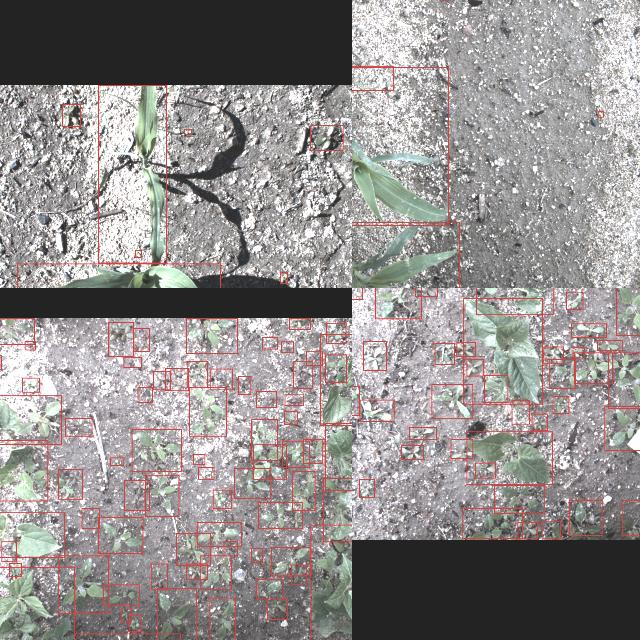crop: (352, 67, 448, 225), (99, 84, 167, 262), (463, 298, 542, 404), (352, 221, 460, 288), (0, 566, 74, 640), (17, 263, 220, 288), (311, 524, 352, 640), (467, 432, 553, 484), (0, 394, 61, 443), (0, 439, 48, 500), (320, 333, 352, 424), (0, 512, 64, 557), (476, 288, 554, 314), (323, 477, 352, 541), (325, 422, 352, 490)
weed: (58, 555, 108, 613), (132, 428, 182, 470), (157, 588, 196, 640), (190, 386, 227, 436), (463, 508, 523, 538), (186, 318, 238, 352), (609, 352, 640, 408), (98, 517, 144, 553), (605, 405, 640, 450), (495, 484, 545, 514), (145, 474, 179, 516), (375, 288, 421, 318), (432, 384, 472, 418), (574, 352, 612, 383), (570, 500, 602, 536), (258, 502, 302, 528), (176, 533, 210, 565), (200, 555, 232, 589), (254, 444, 286, 478), (235, 468, 271, 498), (209, 597, 234, 640), (251, 418, 277, 459), (272, 547, 310, 575), (617, 288, 640, 334), (197, 522, 241, 546), (352, 66, 393, 90), (292, 470, 316, 510), (0, 317, 34, 343), (108, 321, 134, 355), (311, 124, 343, 150), (124, 480, 150, 510), (550, 358, 576, 388), (282, 440, 310, 466), (103, 584, 139, 604), (58, 469, 82, 499), (360, 400, 394, 420), (484, 374, 508, 402), (364, 340, 386, 370), (75, 634, 181, 640), (622, 500, 640, 535), (186, 361, 208, 387), (326, 354, 346, 382), (257, 579, 283, 599), (294, 360, 312, 388), (166, 368, 188, 390), (303, 439, 323, 463), (572, 323, 606, 337), (66, 417, 92, 435), (211, 368, 233, 388), (435, 342, 455, 364), (451, 438, 473, 458), (150, 564, 168, 588), (512, 400, 530, 424), (267, 599, 287, 619), (326, 322, 346, 342), (63, 104, 81, 126), (212, 489, 232, 508), (82, 508, 100, 528), (544, 346, 564, 364), (186, 563, 208, 579), (401, 444, 423, 460), (466, 358, 484, 376), (409, 427, 436, 439), (542, 521, 560, 539), (154, 370, 170, 390), (256, 391, 276, 407), (476, 462, 496, 478), (517, 522, 537, 538), (134, 328, 148, 350), (566, 292, 584, 308), (553, 396, 569, 414), (2, 541, 16, 561), (292, 564, 306, 584), (456, 342, 476, 356), (532, 414, 548, 431), (22, 377, 40, 391), (238, 376, 252, 394), (360, 479, 374, 497), (598, 340, 622, 350), (138, 386, 152, 402), (224, 540, 238, 556), (306, 351, 322, 365), (290, 317, 310, 328), (129, 614, 141, 632), (352, 385, 359, 414), (198, 467, 214, 479), (284, 411, 298, 424), (124, 356, 142, 366), (285, 394, 303, 404), (262, 337, 278, 348), (9, 563, 21, 577), (415, 288, 437, 295), (121, 608, 131, 622), (252, 548, 262, 562), (281, 341, 293, 351), (573, 347, 585, 357), (110, 457, 124, 465), (193, 454, 204, 464), (25, 340, 35, 350), (352, 288, 362, 298), (280, 272, 288, 282), (184, 128, 192, 134), (135, 250, 141, 256), (598, 110, 604, 116)
